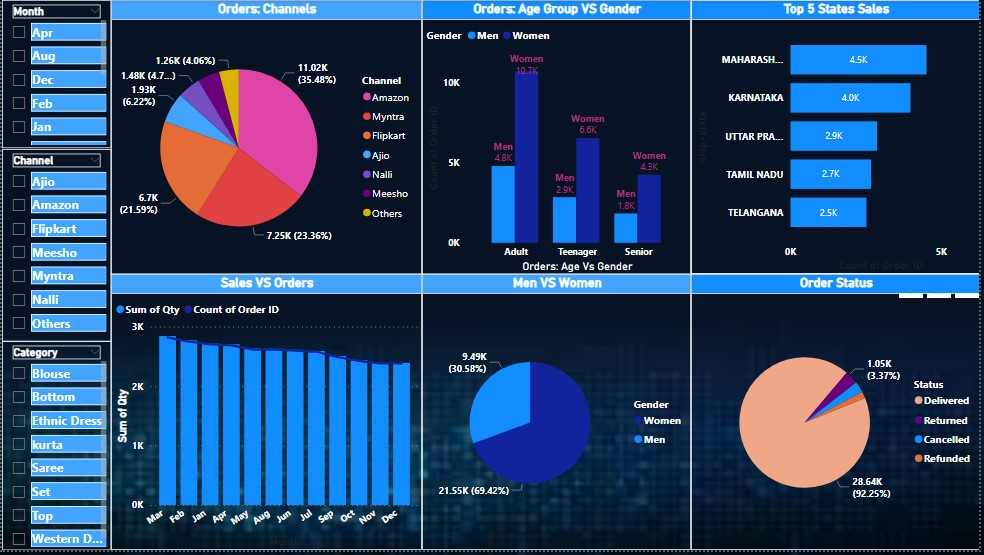

The dashboard page shown, as its layout file describes it:
{"tool":"powerbi","page":{"name":"Page 1","canvas":[1280,720],"ordinal":0},"visuals":[{"type":"pieChart","title":"Orders: Channels","fields":{"Category":["Vrinda Store.Channel "],"Y":["CountNonNull(Vrinda Store.Order ID)"]},"box":[142.6,0,406.7,359.2],"z":0},{"type":"clusteredColumnChart","title":"Orders: Age Group VS Gender","fields":{"Category":["Vrinda Store.Age Group"],"Y":["CountNonNull(Vrinda Store.Order ID)"],"Series":["Vrinda Store.Gender"]},"box":[549.3,0,352.1,359.2],"z":1},{"type":"barChart","title":"Top 5 States Sales","fields":{"Category":["Vrinda Store.ship-state"],"Y":["CountNonNull(Vrinda Store.Order ID)"]},"box":[901.4,0,378.7,358.6],"z":2},{"type":"pieChart","title":"Order Status","fields":{"Category":["Vrinda Store.Status"],"Y":["CountNonNull(Vrinda Store.Order ID)"]},"box":[901.5,359.2,378.5,360.9],"z":3},{"type":"pieChart","title":"Men VS Women","fields":{"Category":["Vrinda Store.Gender"],"Y":["CountNonNull(Vrinda Store.Order ID)"]},"box":[549.3,359.2,352.1,360.9],"z":4},{"type":"lineStackedColumnComboChart","title":"Sales VS Orders","fields":{"Category":["Vrinda Store.Month"],"Y":["Sum(Vrinda Store.Qty)"],"Y2":["CountNonNull(Vrinda Store.Order ID)"]},"box":[142.6,359.2,406.7,360.9],"z":5},{"type":"slicer","fields":{"Values":["Vrinda Store.Month"]},"box":[0,0,142.6,194.4],"z":6},{"type":"slicer","fields":{"Values":["Vrinda Store.Channel "]},"box":[0,194.4,142.6,252],"z":7},{"type":"slicer","fields":{"Values":["Vrinda Store.Category"]},"box":[0,446.4,142.6,273.6],"z":8}]}

Visuals, with their boxes in screenshot pixels (x1, y1, x2, y2), scaled from the page's 1280x720 canvas onto the 984x555 screenshot:
"Orders: Channels" pieChart: x1=110, y1=0, x2=422, y2=277
"Orders: Age Group VS Gender" clusteredColumnChart: x1=422, y1=0, x2=693, y2=277
"Top 5 States Sales" barChart: x1=693, y1=0, x2=983, y2=276
"Order Status" pieChart: x1=693, y1=277, x2=983, y2=554
"Men VS Women" pieChart: x1=422, y1=277, x2=693, y2=554
"Sales VS Orders" lineStackedColumnComboChart: x1=110, y1=277, x2=422, y2=554
slicer - Vrinda Store.Month: x1=0, y1=0, x2=110, y2=150
slicer - Vrinda Store.Channel : x1=0, y1=150, x2=110, y2=344
slicer - Vrinda Store.Category: x1=0, y1=344, x2=110, y2=554
